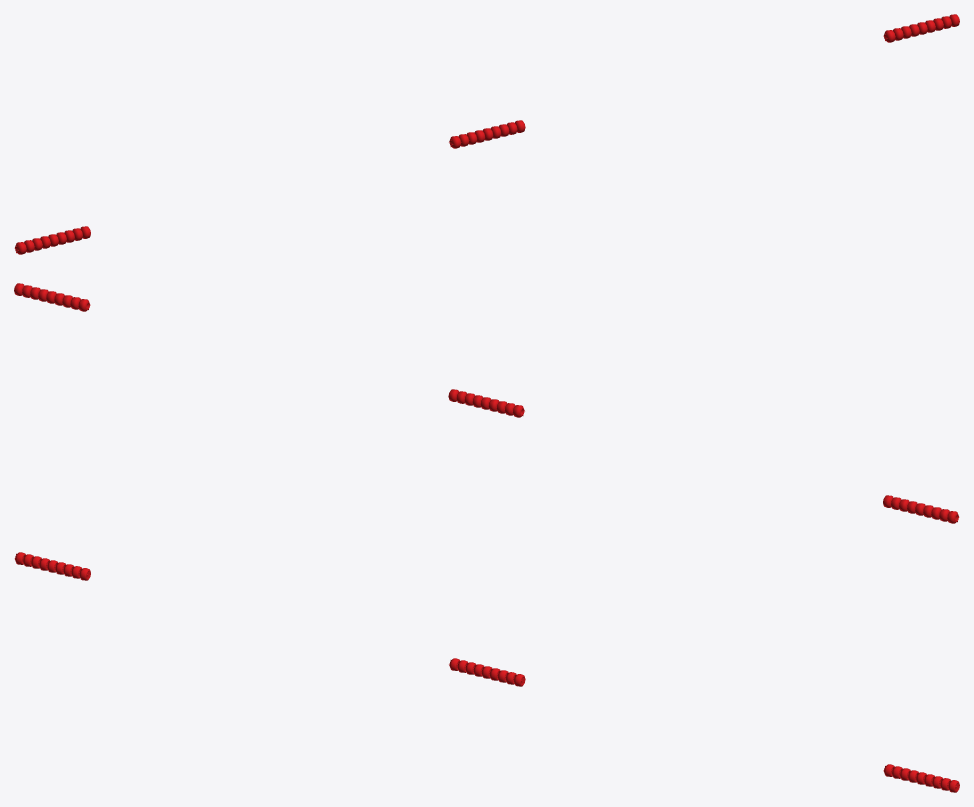
Rendered from LaneRope_75ft_LOD1_Tricolor_Cycle_sec2.obj.
3 views of the same model, one above another, from view 1: azimuth 30°, elevation 25°; view 2: azimuth 150°, elevation 25°; view 3: azimuth 330°, elevation 25° (orthographic).
Parts seen in each view (by area): view 1: section_15_sec2, section_03_sec2, section_09_sec2; view 2: section_15_sec2, section_03_sec2, section_09_sec2; view 3: section_15_sec2, section_03_sec2, section_09_sec2.
Part boxes in pixels (x1,y1,x2,y2): section_15_sec2: [883, 14, 959, 42]; section_03_sec2: [14, 226, 90, 254]; section_09_sec2: [449, 120, 525, 148]; section_15_sec2: [14, 283, 90, 311]; section_03_sec2: [883, 495, 959, 523]; section_09_sec2: [448, 389, 524, 417]; section_15_sec2: [883, 764, 959, 792]; section_03_sec2: [14, 552, 90, 580]; section_09_sec2: [449, 658, 525, 686].
Bounding box in the file's own units: 9.9 × 0.1206 × 0.1206.
